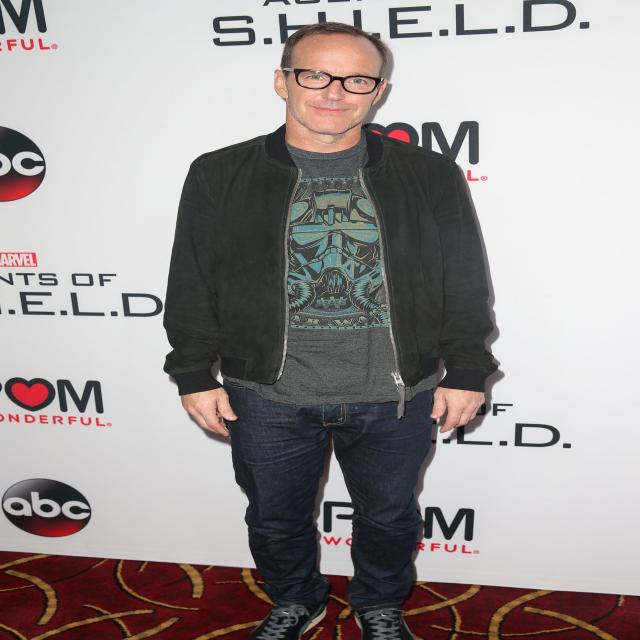Glasses: (279, 59, 391, 102)
